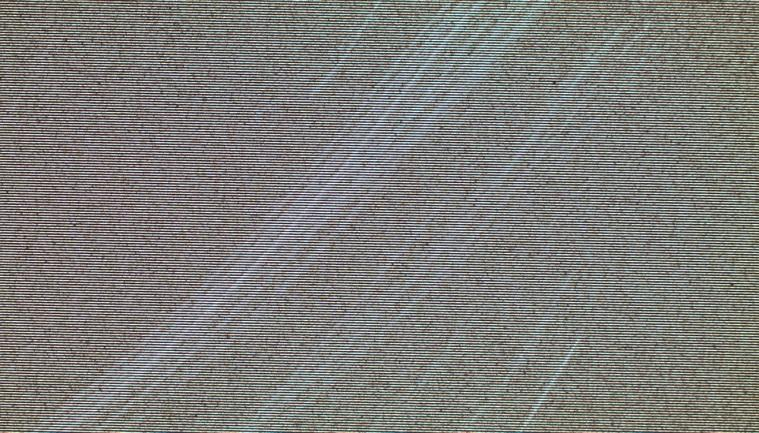SCRATCH: (25, 1, 660, 433)
